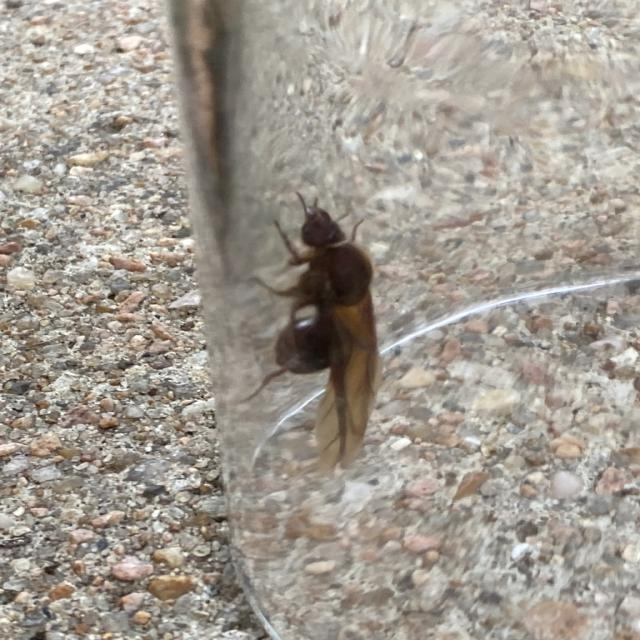Alive-Female-Alate: (223, 190, 381, 477)
